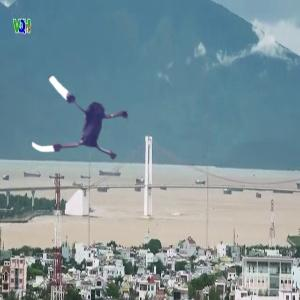drone: (25, 62, 143, 180)
